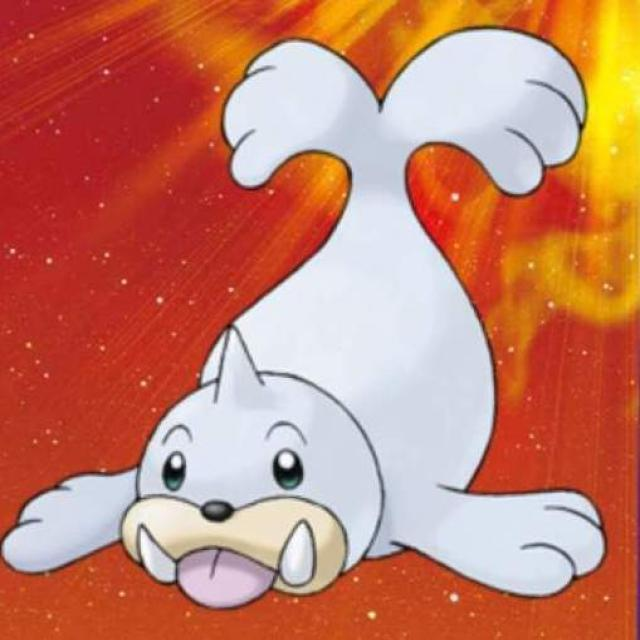Seel: (115, 31, 593, 604)
